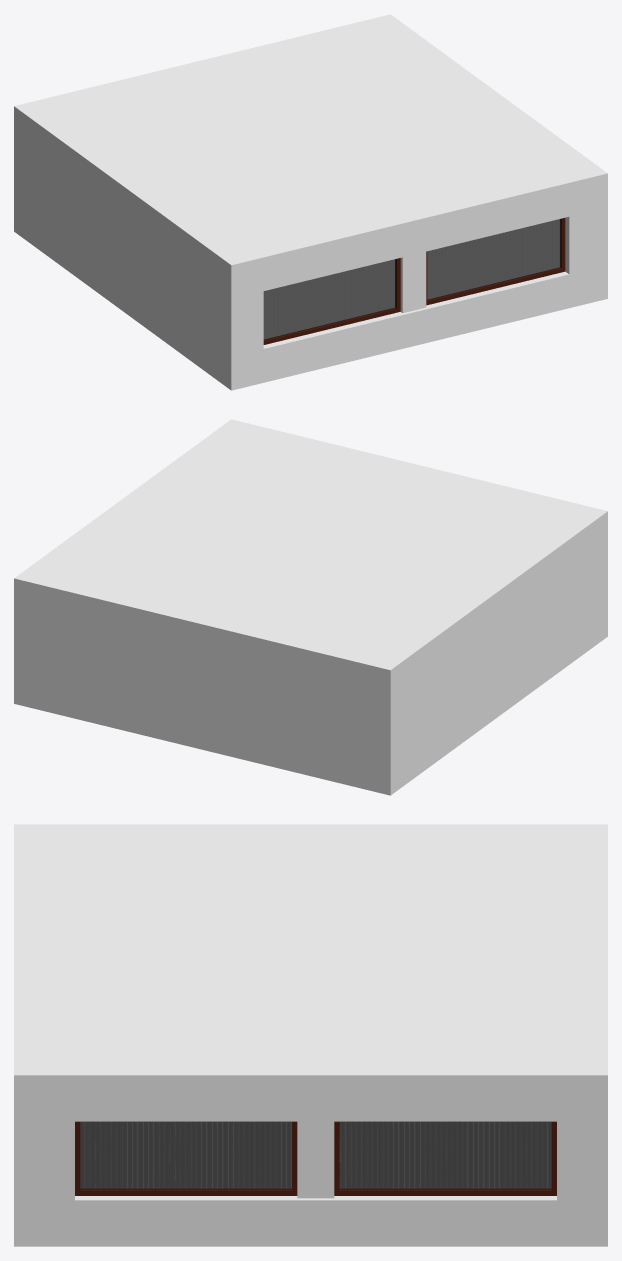
Rendered from Building.FBX.
3 views of the same model, one above another, from view 1: azimuth 30°, elevation 25°; view 2: azimuth 150°, elevation 25°; view 3: azimuth 270°, elevation 25° (orthographic). The views are drawn at different scales.
Visible parts, largest first — view 1: Building, ExteriorGlass, Frame001; view 2: Building; view 3: Building, ExteriorGlass001, Frame.
Boxes of the visible parts, x1=… form: Building: x1=14, y1=14, x2=607, y2=390; ExteriorGlass: x1=263, y1=219, x2=560, y2=340; Frame001: x1=263, y1=218, x2=565, y2=344; Building: x1=14, y1=419, x2=607, y2=795; Building: x1=14, y1=824, x2=607, y2=1246; ExteriorGlass001: x1=80, y1=1122, x2=551, y2=1189; Frame: x1=75, y1=1121, x2=556, y2=1195.
Size of the model in its own units: 1100 by 1100 by 350.
